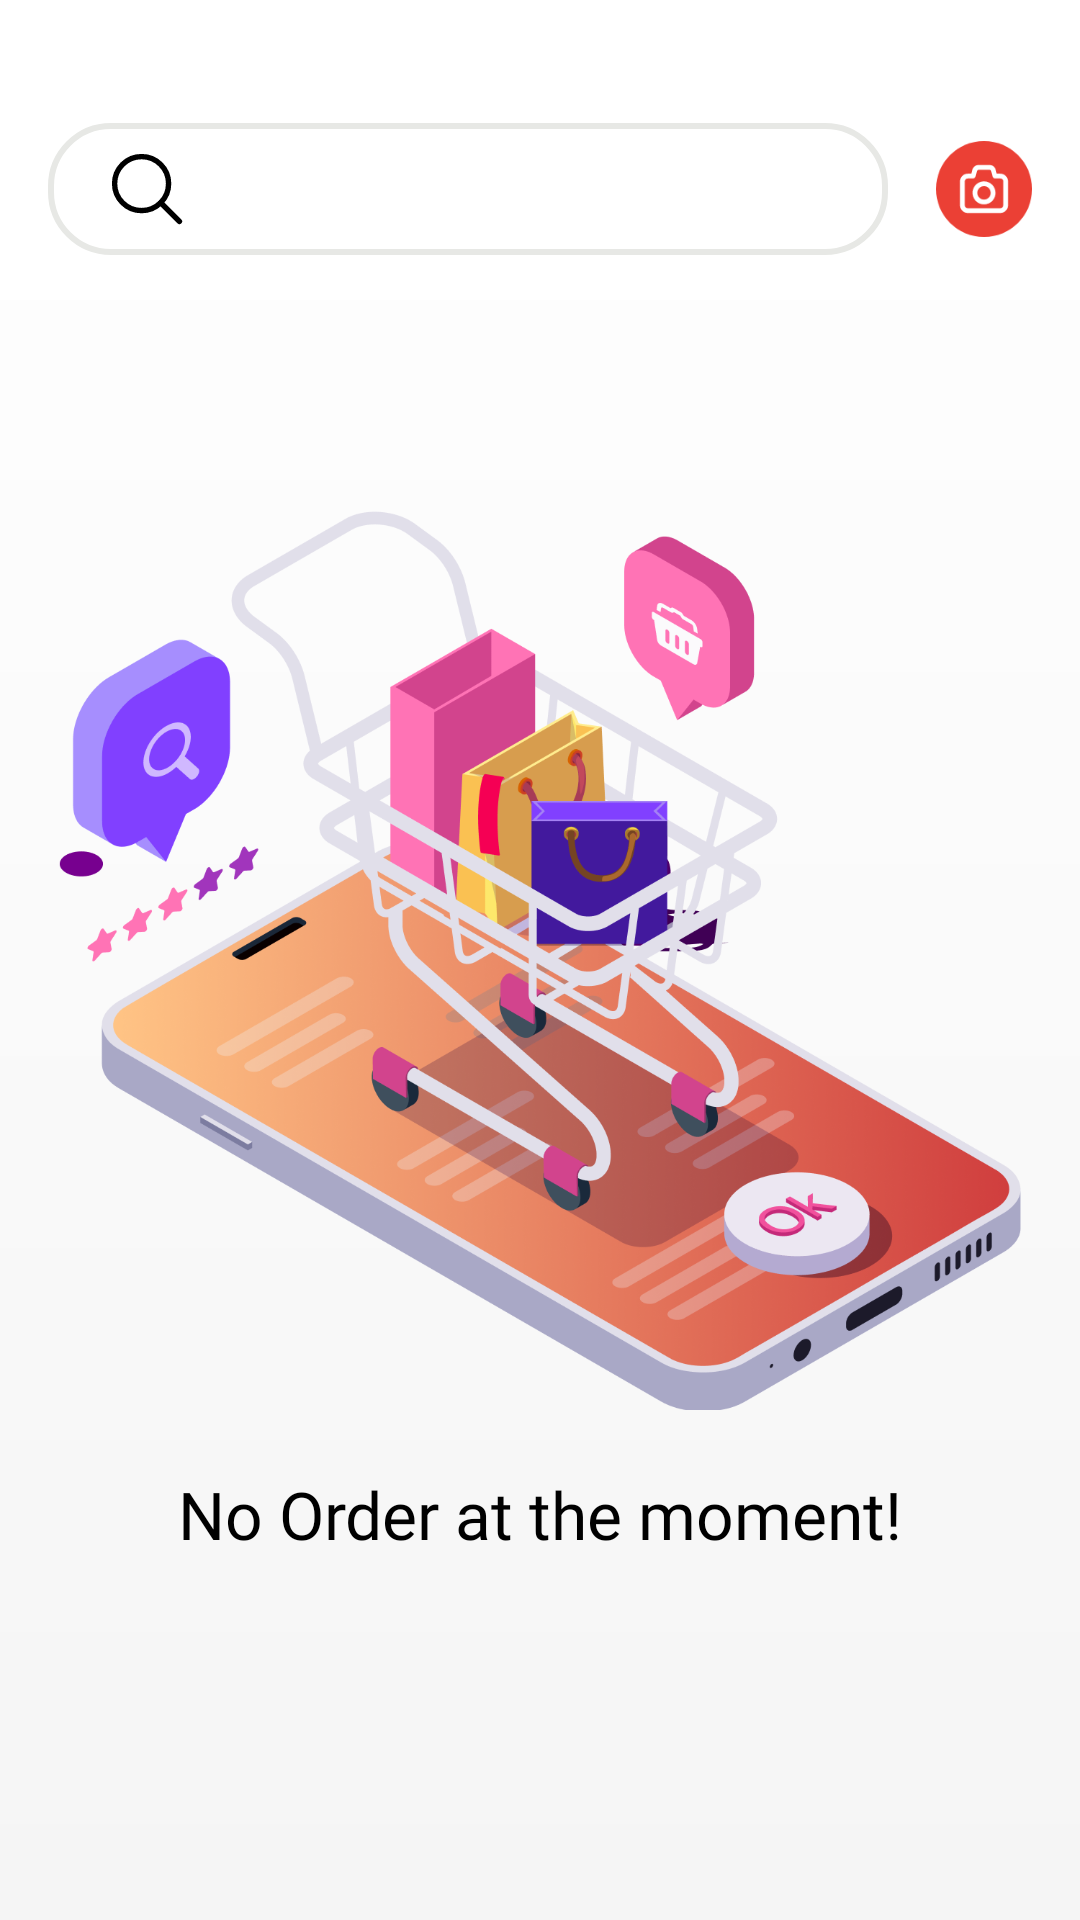

Screen size 1080w x 1920h. Icon name, then its box in pixels as (x1, y1, x2, y2):
search: (112, 154, 183, 225)
